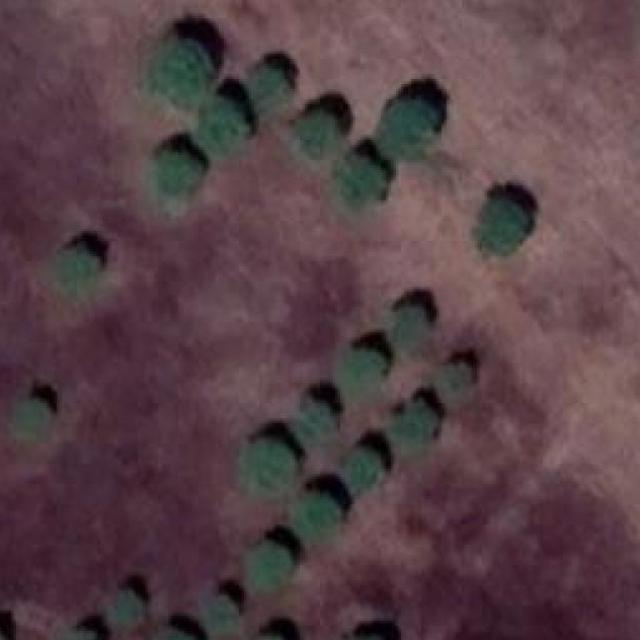Tree: (142, 39, 212, 104), (234, 433, 295, 498), (378, 99, 438, 160), (196, 97, 246, 158), (340, 347, 391, 403), (332, 155, 381, 211), (155, 150, 206, 203), (290, 109, 340, 160), (477, 201, 528, 249), (246, 542, 292, 590), (393, 400, 438, 449), (54, 251, 97, 302), (294, 400, 337, 449), (290, 489, 335, 535), (344, 449, 388, 494), (201, 593, 244, 639), (243, 64, 287, 107), (438, 361, 474, 404), (13, 400, 49, 438), (390, 307, 423, 342), (109, 590, 140, 621), (145, 628, 200, 640), (59, 628, 104, 640)
